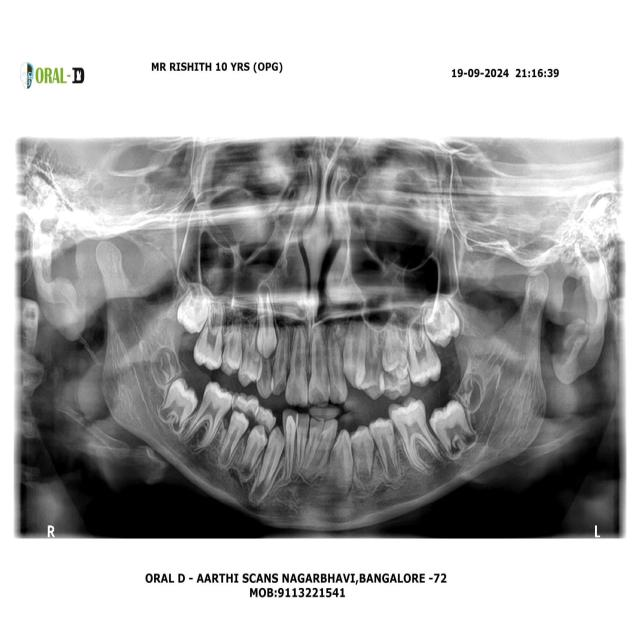Premolars: (369, 410, 401, 482), (349, 418, 374, 488)
